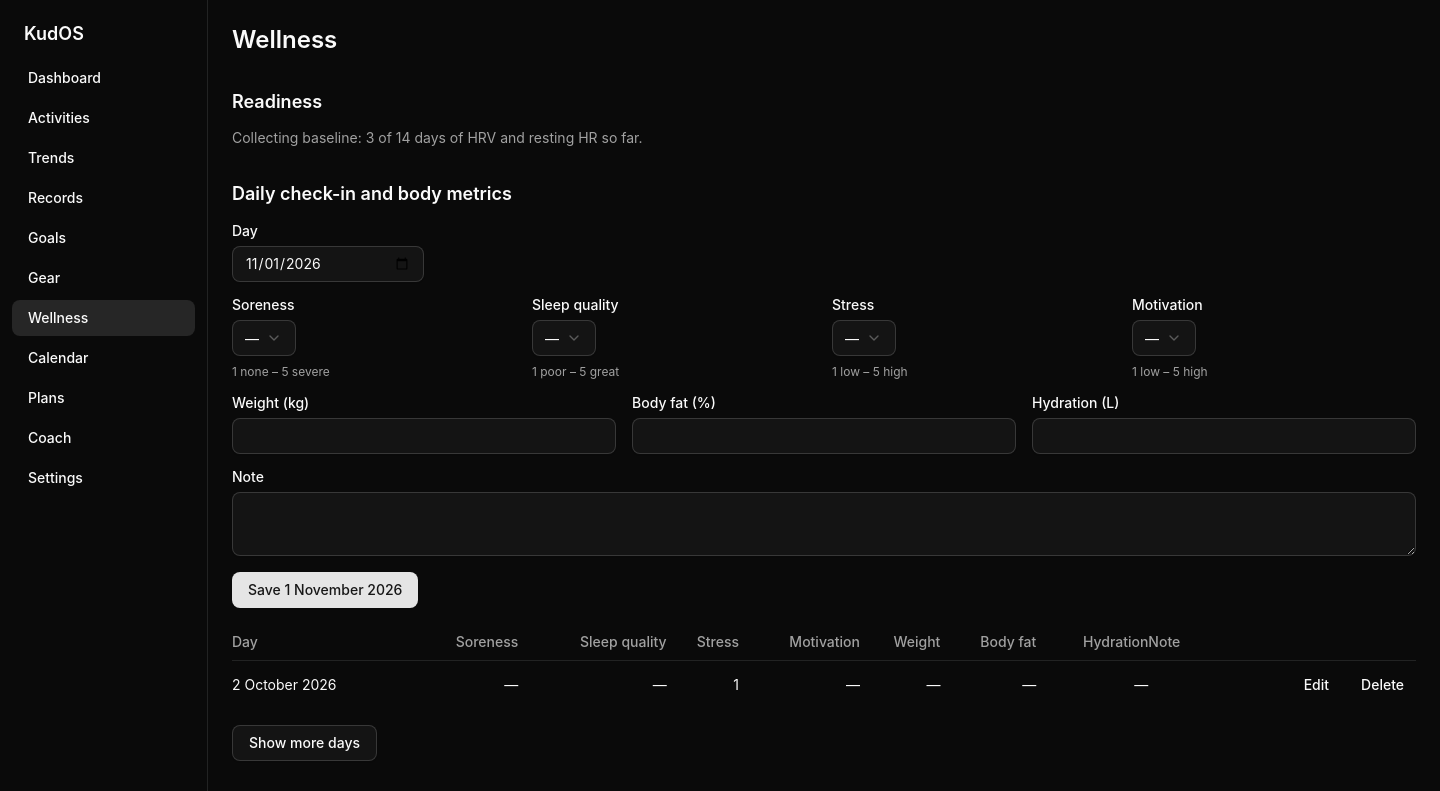
Scenario: WellnessPage › loads more days with the cursor
Click the button "Show more days": (304, 743) [232,725,377,761]
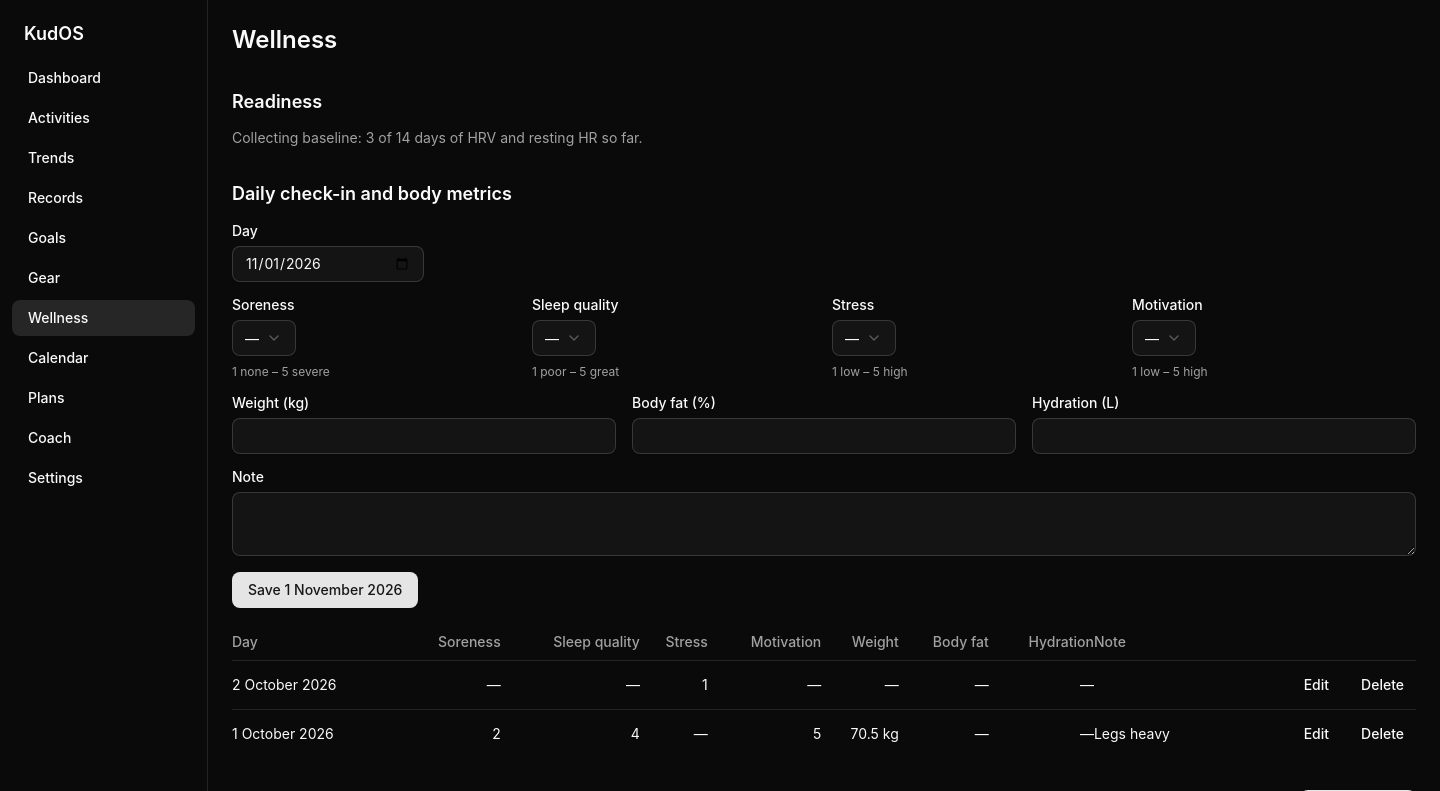
Now the cell "1 October 2026" is shown, box [232,710,400,758]
